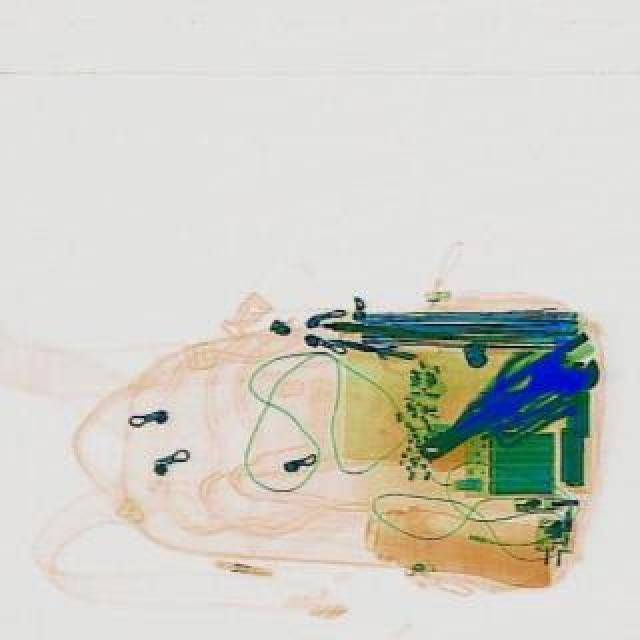scissors: (400, 334, 604, 468)
